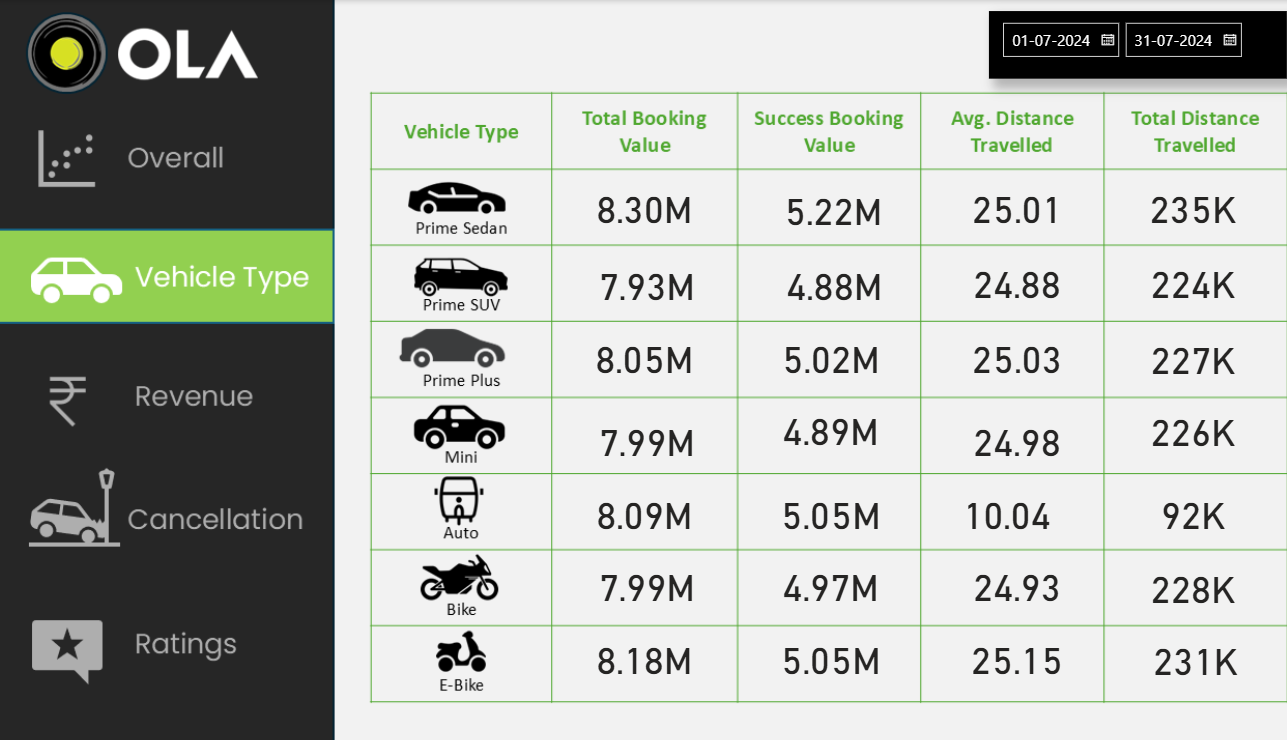

The dashboard page shown, as its layout file describes it:
{"tool":"powerbi","page":{"name":"Vehicle Type","canvas":[1280,720],"ordinal":1},"visuals":[{"type":"actionButton","box":[0,343.8,324.5,91.7],"z":0},{"type":"card","fields":{"Values":["Sum(July.Booking_Value)"]},"box":[533.8,164.7,179.8,70],"z":1000},{"type":"card","fields":{"Values":["Sum(July.Booking_Value)"]},"box":[535.2,389.7,179.8,70],"z":2000},{"type":"card","fields":{"Values":["Sum(July.Booking_Value)"]},"box":[533.8,459.7,179.8,70],"z":3000},{"type":"card","fields":{"Values":["Sum(July.Booking_Value)"]},"box":[535.2,529.7,179.8,70],"z":4000},{"type":"card","fields":{"Values":["Sum(July.Booking_Value)"]},"box":[533.8,599.7,179.8,70],"z":5000},{"type":"card","fields":{"Values":["Sum(July.Booking_Value)"]},"box":[714.9,166,179.8,70],"z":6000},{"type":"card","fields":{"Values":["Sum(July.Booking_Value)"]},"box":[716.3,238.8,179.8,70],"z":7000},{"type":"card","fields":{"Values":["Sum(July.Booking_Value)"]},"box":[713.6,308.7,179.8,70],"z":8000},{"type":"card","fields":{"Values":["Sum(July.Booking_Value)"]},"box":[713.6,378.7,179.8,70],"z":9000},{"type":"card","fields":{"Values":["Sum(July.Booking_Value)"]},"box":[713.6,459.7,179.8,70],"z":10000},{"type":"card","fields":{"Values":["Sum(July.Booking_Value)"]},"box":[713.6,529.7,179.8,70],"z":11000},{"type":"card","fields":{"Values":["Sum(July.Booking_Value)"]},"box":[713.6,599.7,179.8,70],"z":12000},{"type":"card","fields":{"Values":["Sum(July.Booking_Value)"]},"box":[533.8,308.7,179.8,70],"z":13000},{"type":"card","fields":{"Values":["Sum(July.Booking_Value)"]},"box":[535.2,238.8,179.8,70],"z":14000},{"type":"card","fields":{"Values":["Avg(July.Ride_Distance)"]},"box":[893.3,164.7,179.8,70],"z":15000},{"type":"card","fields":{"Values":["Avg(July.Ride_Distance)"]},"box":[893.3,236,179.8,70],"z":16000},{"type":"card","fields":{"Values":["Avg(July.Ride_Distance)"]},"box":[893.3,308.7,179.8,70],"z":17000},{"type":"card","fields":{"Values":["Avg(July.Ride_Distance)"]},"box":[893.3,389.7,179.8,70],"z":18000},{"type":"card","fields":{"Values":["Avg(July.Ride_Distance)"]},"box":[883.7,459.7,179.8,70],"z":19000},{"type":"card","fields":{"Values":["Avg(July.Ride_Distance)"]},"box":[893.3,529.7,179.8,70],"z":20000},{"type":"card","fields":{"Values":["Avg(July.Ride_Distance)"]},"box":[893.3,599.7,179.8,70],"z":21000},{"type":"card","fields":{"Values":["Sum(July.Ride_Distance)"]},"box":[1063.5,164.7,179.8,70],"z":22000},{"type":"card","fields":{"Values":["Sum(July.Ride_Distance)"]},"box":[1063.5,236,179.8,70],"z":23000},{"type":"card","fields":{"Values":["Sum(July.Ride_Distance)"]},"box":[1063.5,310.1,179.8,70],"z":24000},{"type":"card","fields":{"Values":["Sum(July.Ride_Distance)"]},"box":[1063.5,380.1,179.8,70],"z":25000},{"type":"card","fields":{"Values":["Sum(July.Ride_Distance)"]},"box":[1063.5,459.7,179.8,70],"z":26000},{"type":"card","fields":{"Values":["Sum(July.Ride_Distance)"]},"box":[1063.5,531,179.8,70],"z":27000},{"type":"card","fields":{"Values":["Sum(July.Ride_Distance)"]},"box":[1064.8,601,179.8,70],"z":28000},{"type":"slicer","title":"Date","fields":{"Values":["July.Date"]},"box":[955.5,10.9,287.1,65.1],"z":29000}]}

Visuals, with their boxes on the page's 1280x720 design canvas (x1, y1, x2, y2). These are canvas units, not pixel positions in the 1287x740 screenshot, which may show the page scaled, cropped or inside an application window:
actionButton: BBox(0, 344, 324, 436)
card - Sum(July.Booking_Value): BBox(534, 165, 714, 235)
card - Sum(July.Booking_Value): BBox(535, 390, 715, 460)
card - Sum(July.Booking_Value): BBox(534, 460, 714, 530)
card - Sum(July.Booking_Value): BBox(535, 530, 715, 600)
card - Sum(July.Booking_Value): BBox(534, 600, 714, 670)
card - Sum(July.Booking_Value): BBox(715, 166, 895, 236)
card - Sum(July.Booking_Value): BBox(716, 239, 896, 309)
card - Sum(July.Booking_Value): BBox(714, 309, 893, 379)
card - Sum(July.Booking_Value): BBox(714, 379, 893, 449)
card - Sum(July.Booking_Value): BBox(714, 460, 893, 530)
card - Sum(July.Booking_Value): BBox(714, 530, 893, 600)
card - Sum(July.Booking_Value): BBox(714, 600, 893, 670)
card - Sum(July.Booking_Value): BBox(534, 309, 714, 379)
card - Sum(July.Booking_Value): BBox(535, 239, 715, 309)
card - Avg(July.Ride_Distance): BBox(893, 165, 1073, 235)
card - Avg(July.Ride_Distance): BBox(893, 236, 1073, 306)
card - Avg(July.Ride_Distance): BBox(893, 309, 1073, 379)
card - Avg(July.Ride_Distance): BBox(893, 390, 1073, 460)
card - Avg(July.Ride_Distance): BBox(884, 460, 1064, 530)
card - Avg(July.Ride_Distance): BBox(893, 530, 1073, 600)
card - Avg(July.Ride_Distance): BBox(893, 600, 1073, 670)
card - Sum(July.Ride_Distance): BBox(1064, 165, 1243, 235)
card - Sum(July.Ride_Distance): BBox(1064, 236, 1243, 306)
card - Sum(July.Ride_Distance): BBox(1064, 310, 1243, 380)
card - Sum(July.Ride_Distance): BBox(1064, 380, 1243, 450)
card - Sum(July.Ride_Distance): BBox(1064, 460, 1243, 530)
card - Sum(July.Ride_Distance): BBox(1064, 531, 1243, 601)
card - Sum(July.Ride_Distance): BBox(1065, 601, 1245, 671)
"Date" slicer: BBox(956, 11, 1243, 76)
